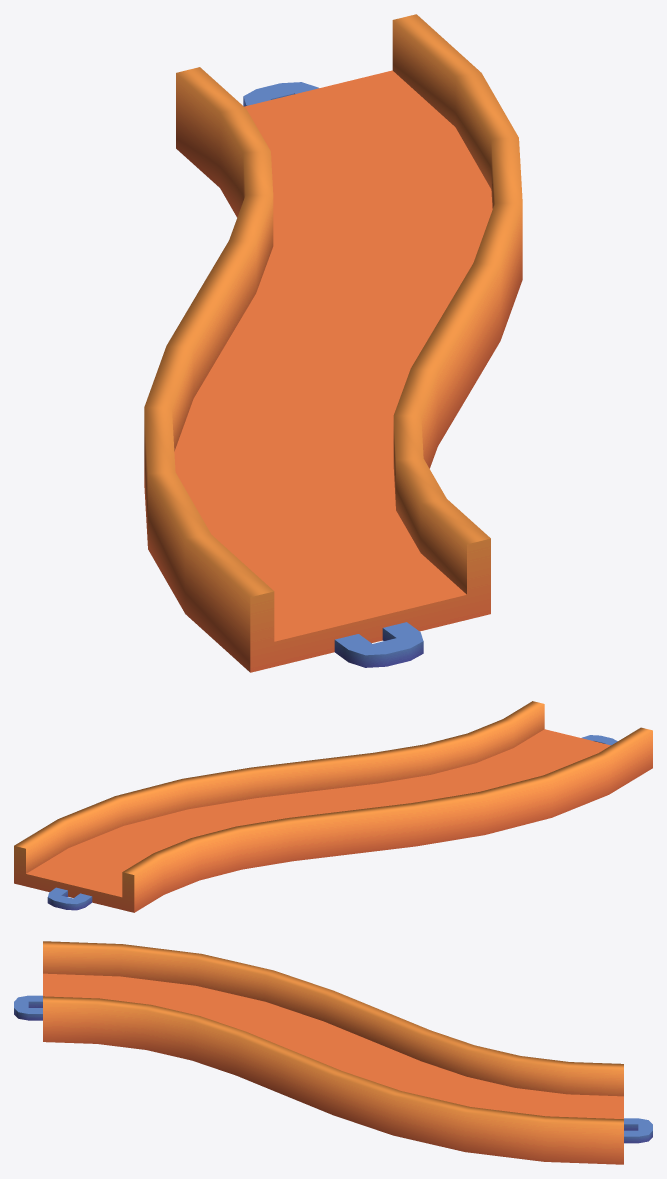
Rendered from track-narrow-curve.glb.
3 views of the same model, one above another, from view 1: azimuth 30°, elevation 25°; view 2: azimuth 150°, elevation 25°; view 3: azimuth 270°, elevation 25° (orthographic). The views are drawn at different scales.
Parts seen in each view (by area): view 1: track-narrow-curve; view 2: track-narrow-curve; view 3: track-narrow-curve.
Boxes of the visible parts, x1,y1,x2,y2 form: track-narrow-curve: (144, 14, 522, 672); track-narrow-curve: (14, 701, 652, 912); track-narrow-curve: (14, 941, 652, 1164).
Size of the model in its own units: 3 by 0.3 by 4.4.
Materials: 1 (1 with a texture image).
